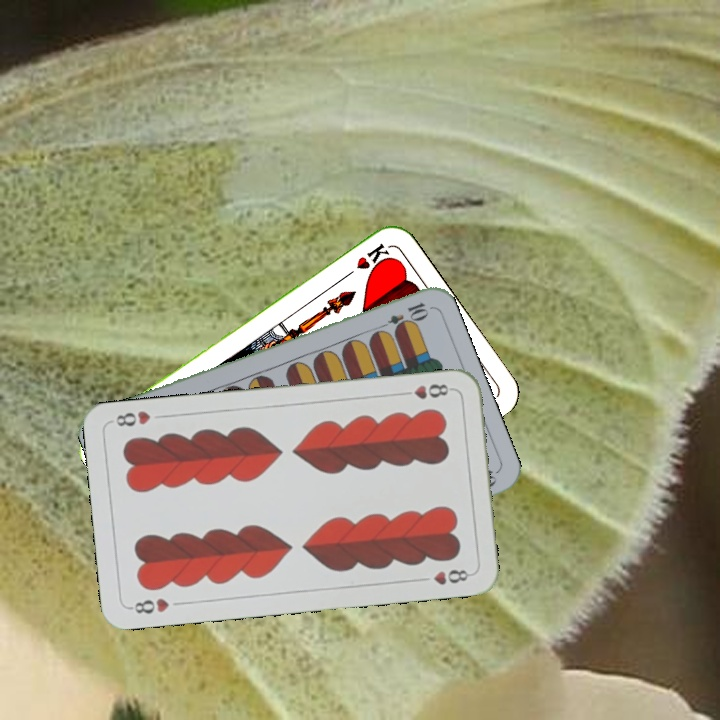E10: (373, 298, 431, 334)
H8: (396, 379, 455, 402), (126, 594, 172, 616)
HK: (338, 239, 393, 282)
